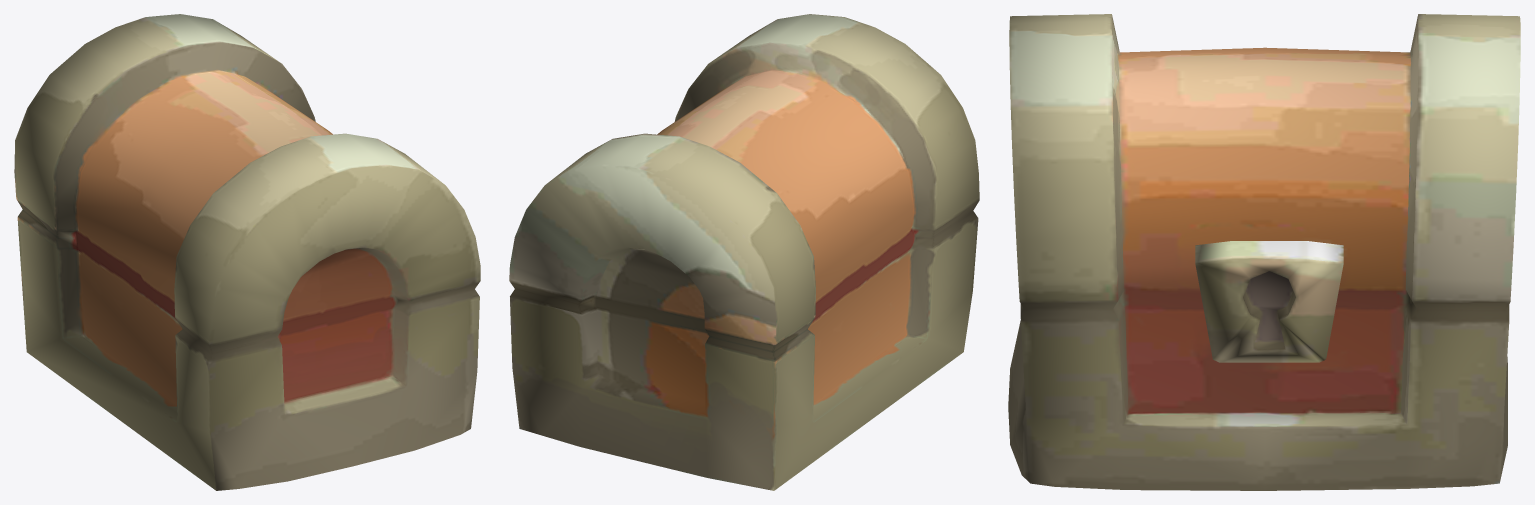
Rendered from SM_s19abc.fbx.
3 views of the same model, side by side, from view 1: azimuth 30°, elevation 25°; view 2: azimuth 150°, elevation 25°; view 3: azimuth 270°, elevation 25° (orthographic). The views are drawn at different scales.
Parts seen in each view (by area): view 1: SM_s19a; view 2: SM_s19a; view 3: SM_s19a.
Part boxes in pixels (x1,y1,x2,y2): SM_s19a: [14, 14, 480, 490]; SM_s19a: [509, 14, 979, 490]; SM_s19a: [1008, 14, 1520, 490].
Size of the model in its own units: 118 by 122 by 153.
